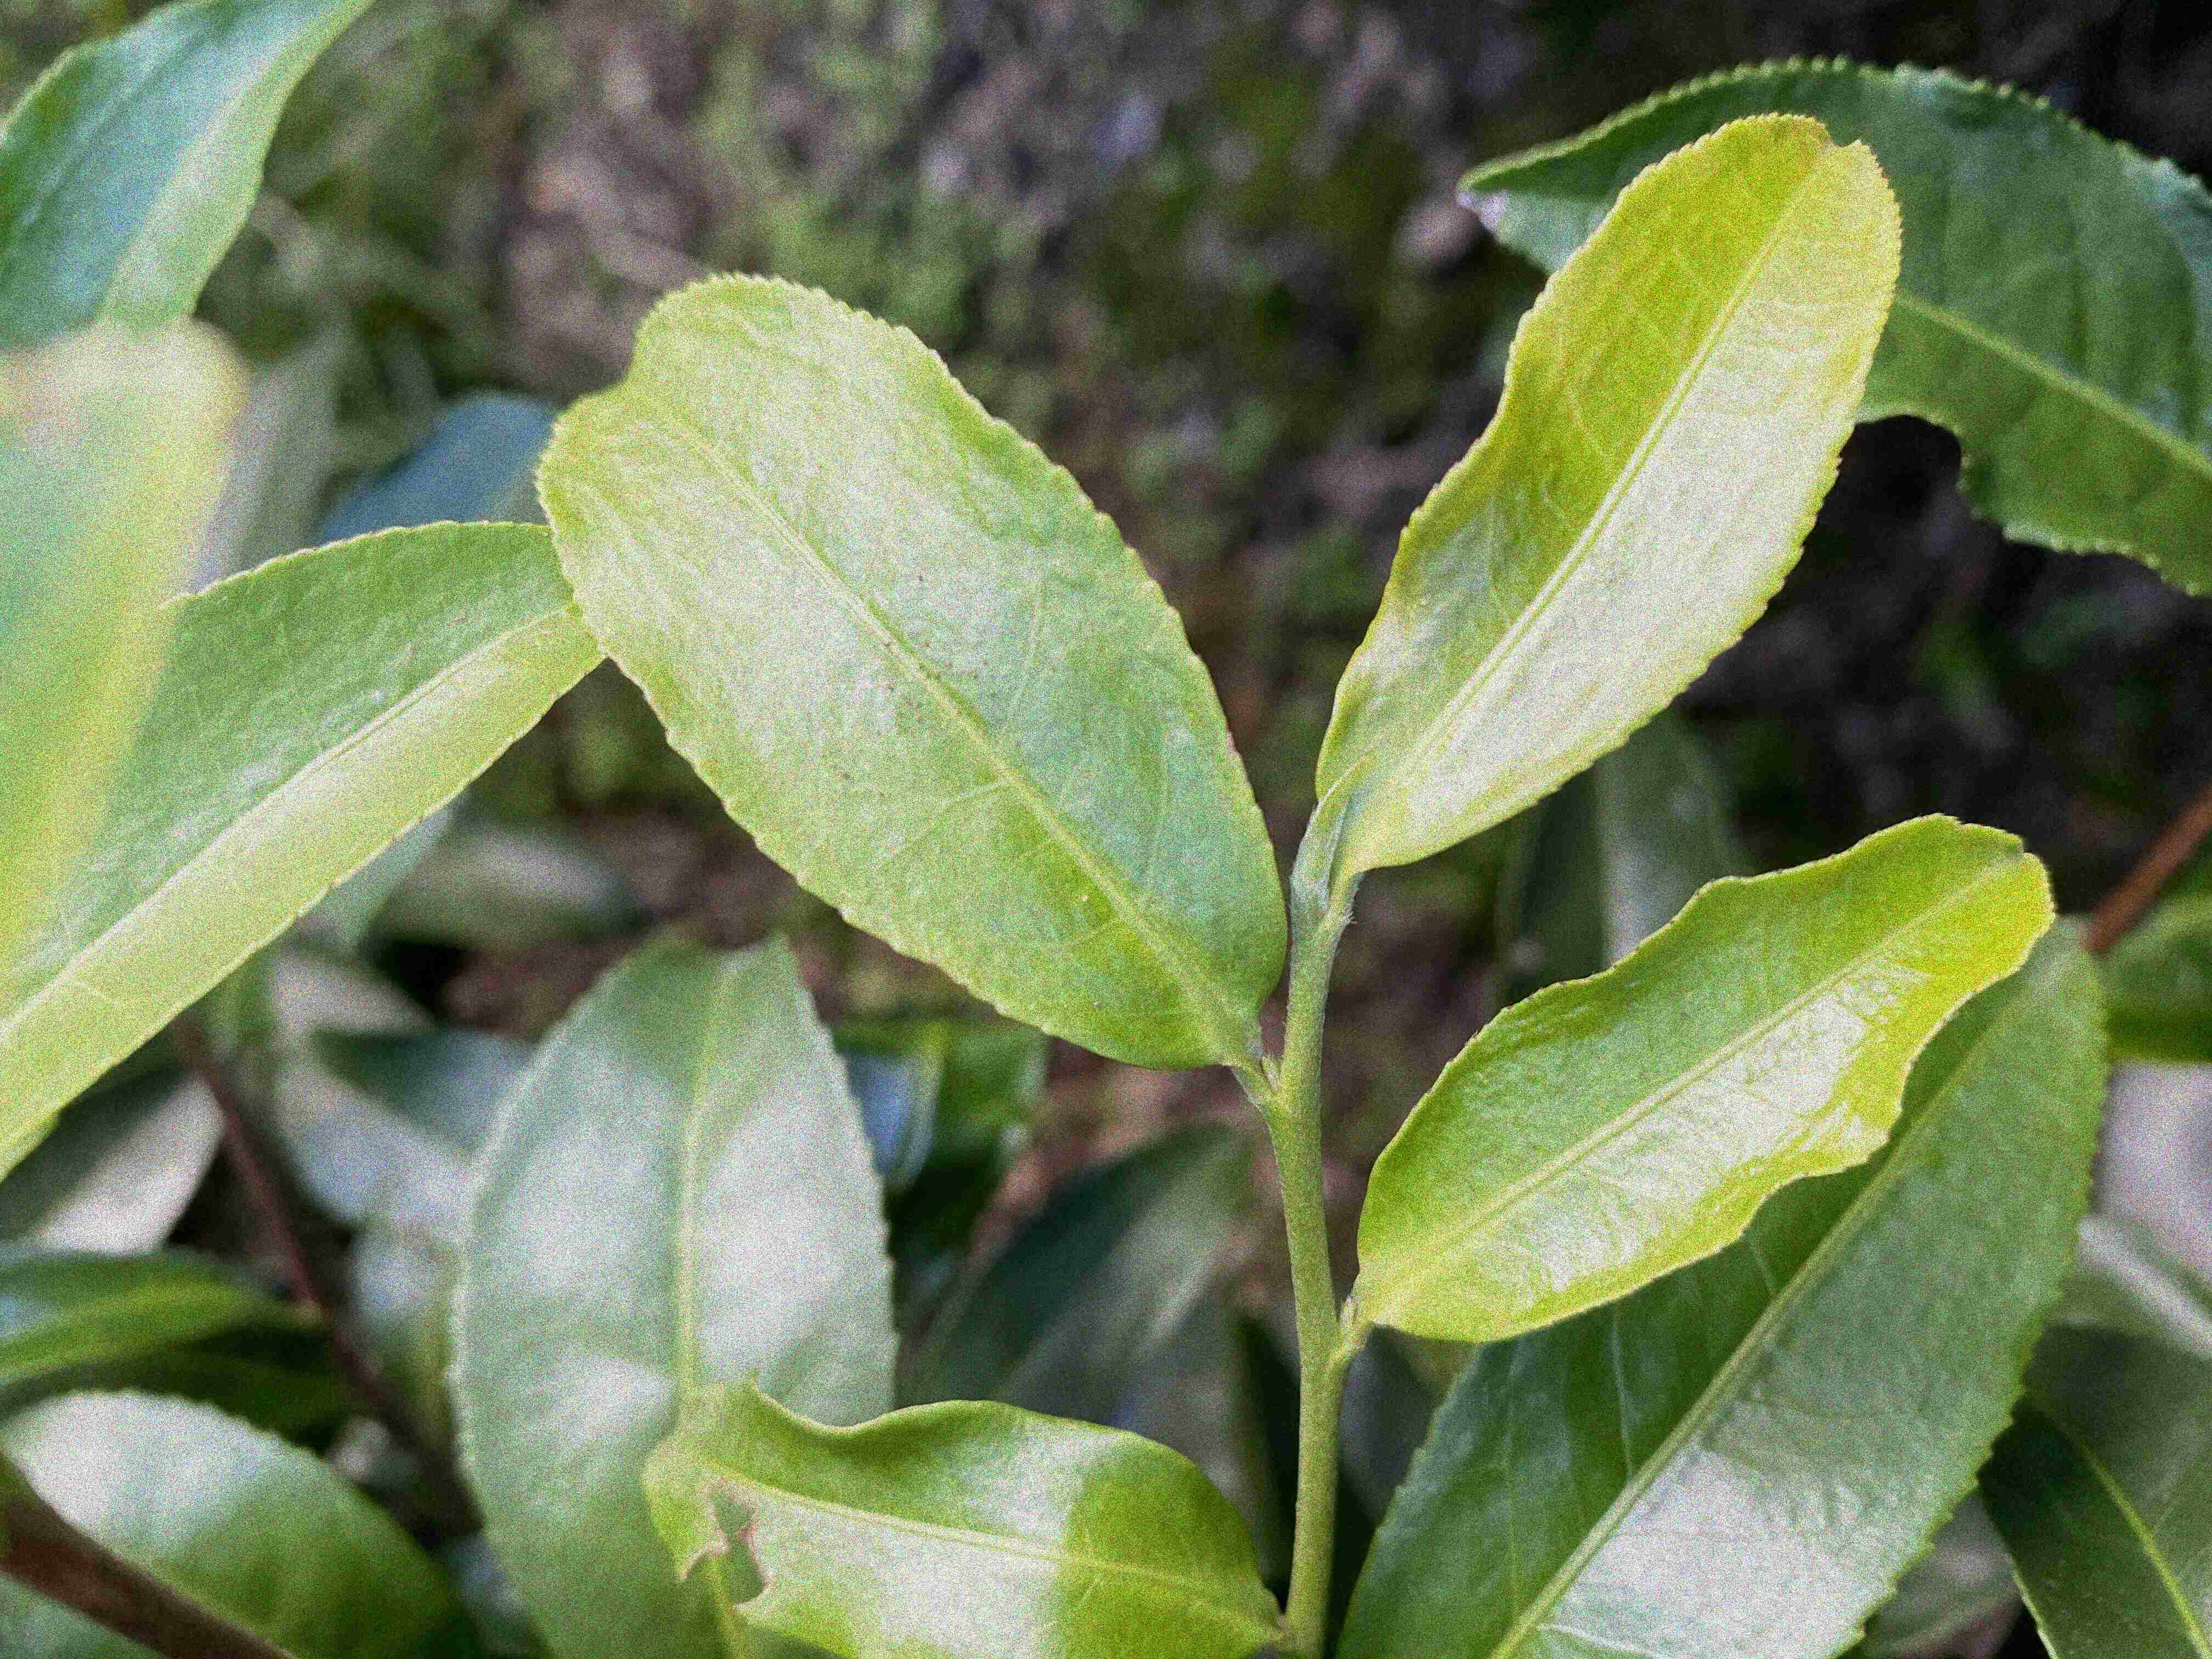chihuo_low: (639, 1366, 1278, 1656)
healthy: (533, 272, 1285, 1073), (1313, 112, 1904, 868), (1350, 809, 2057, 1344)
